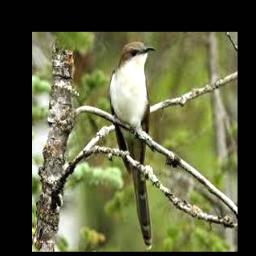Cuckoo: (108, 41, 152, 248)
